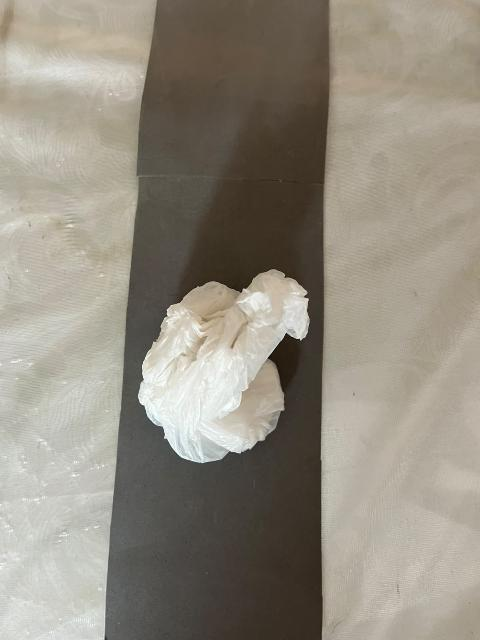LDPE: (55, 200, 385, 569)
